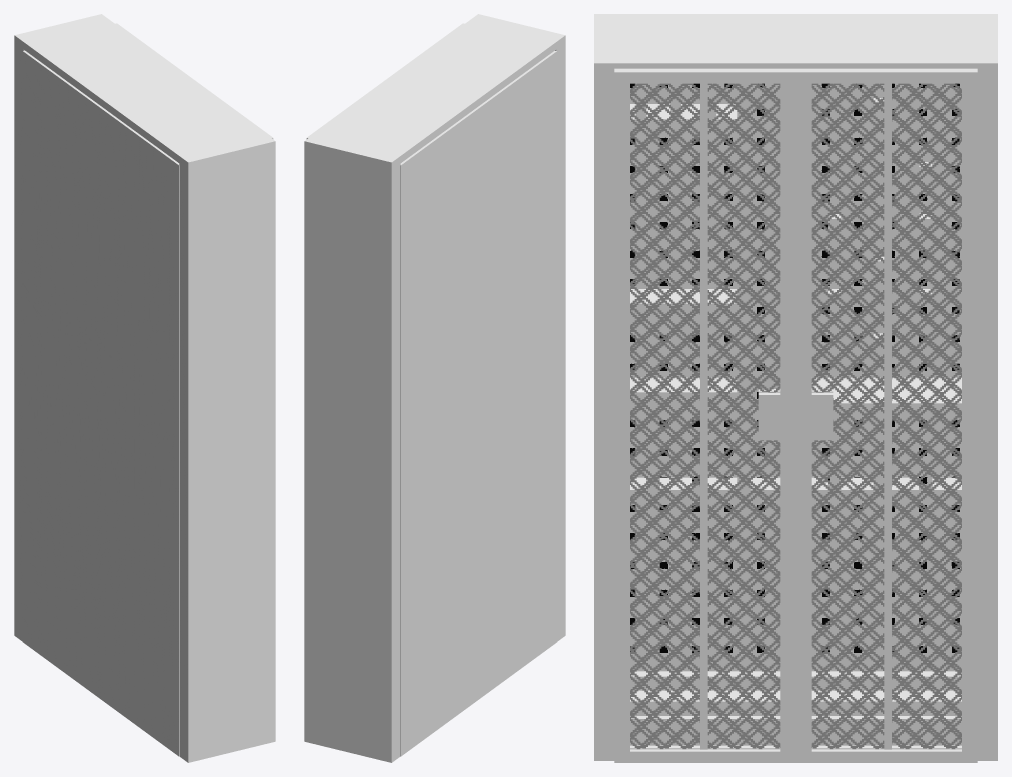
File: weaponWall.fbx
3 views of the same model, side by side, from view 1: azimuth 30°, elevation 25°; view 2: azimuth 150°, elevation 25°; view 3: azimuth 270°, elevation 25° (orthographic). The views are drawn at different scales.
Parts seen in each view (by area): view 1: weaponsWall_main1, weaponsWall_border; view 2: weaponsWall_main1, weaponsWall_border; view 3: weaponsWall_main1, weaponsWall_doorL, weaponsWall_doorR, weaponsWall_border.
Part boxes in pixels (x1,y1,x2,y2): weaponsWall_main1: (22, 51, 179, 756); weaponsWall_border: (14, 14, 275, 762); weaponsWall_main1: (400, 51, 557, 756); weaponsWall_border: (304, 14, 565, 762); weaponsWall_main1: (630, 83, 961, 745); weaponsWall_doorL: (614, 68, 795, 762); weaponsWall_doorR: (796, 68, 977, 762); weaponsWall_border: (594, 14, 997, 760).
Bounding box in the file's own units: 41.79 × 254 × 133.
